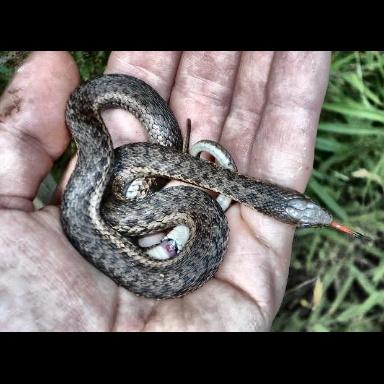snake: (62, 76, 351, 300)
